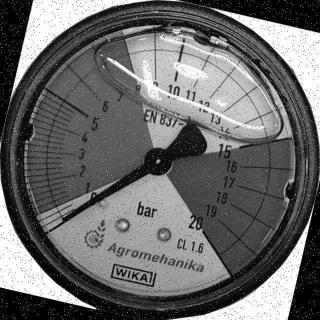gauge: (0, 0, 320, 320), (185, 214, 222, 256), (45, 200, 79, 243), (142, 145, 173, 176), (57, 214, 69, 226)
